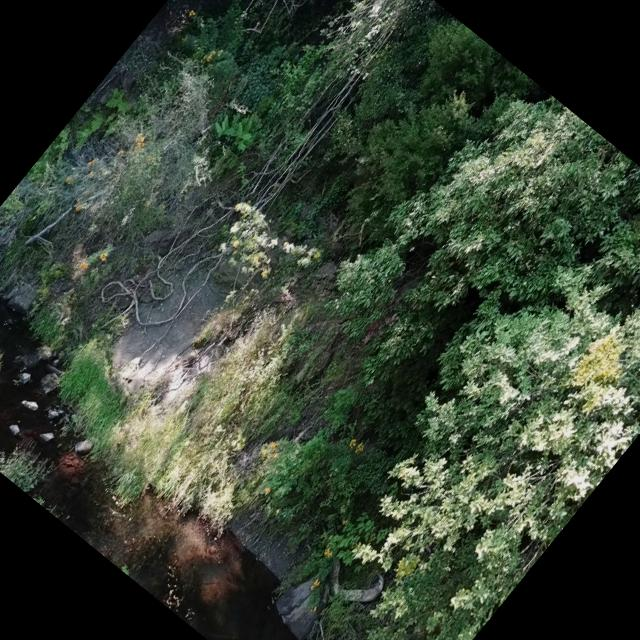Mysore-Thorn-Weed: (207, 98, 266, 158)
